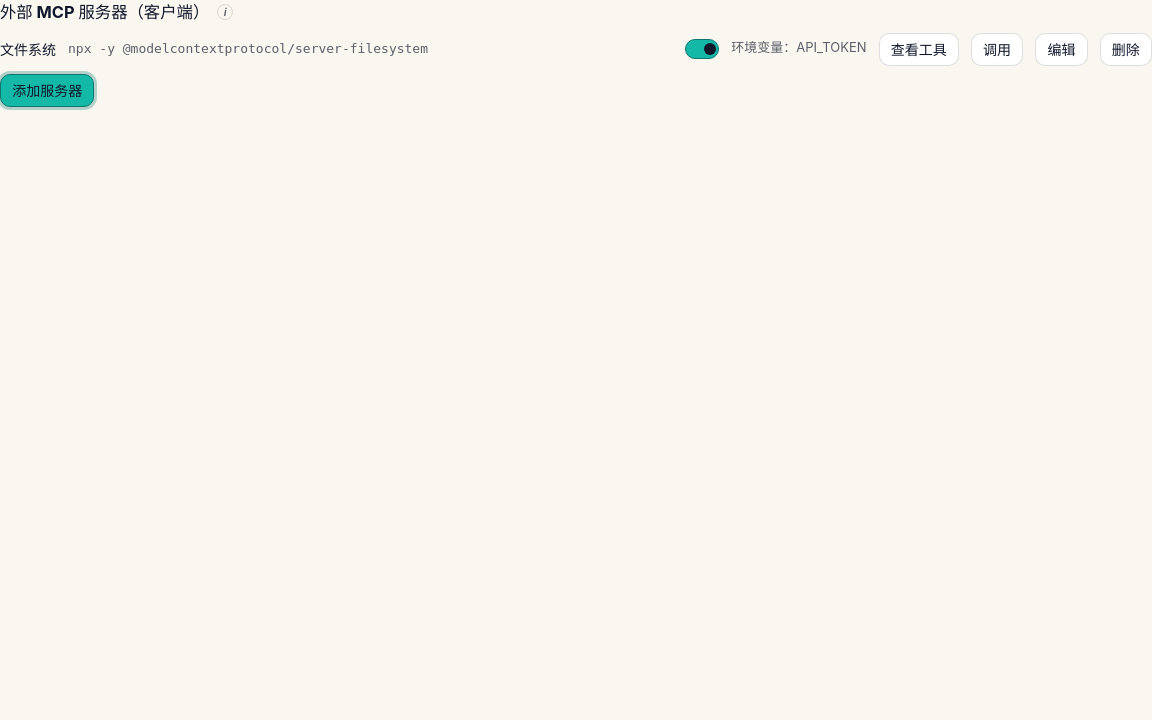
it: McpClientSettings › 查看工具 → mcp_server_tools → 工具名与描述可见
What coordinates should you click on to do the following:
click the button with test id "mcp-client-tools-srv-1"
I would click on:
 (919, 49)
Its box is [878,33,959,66].
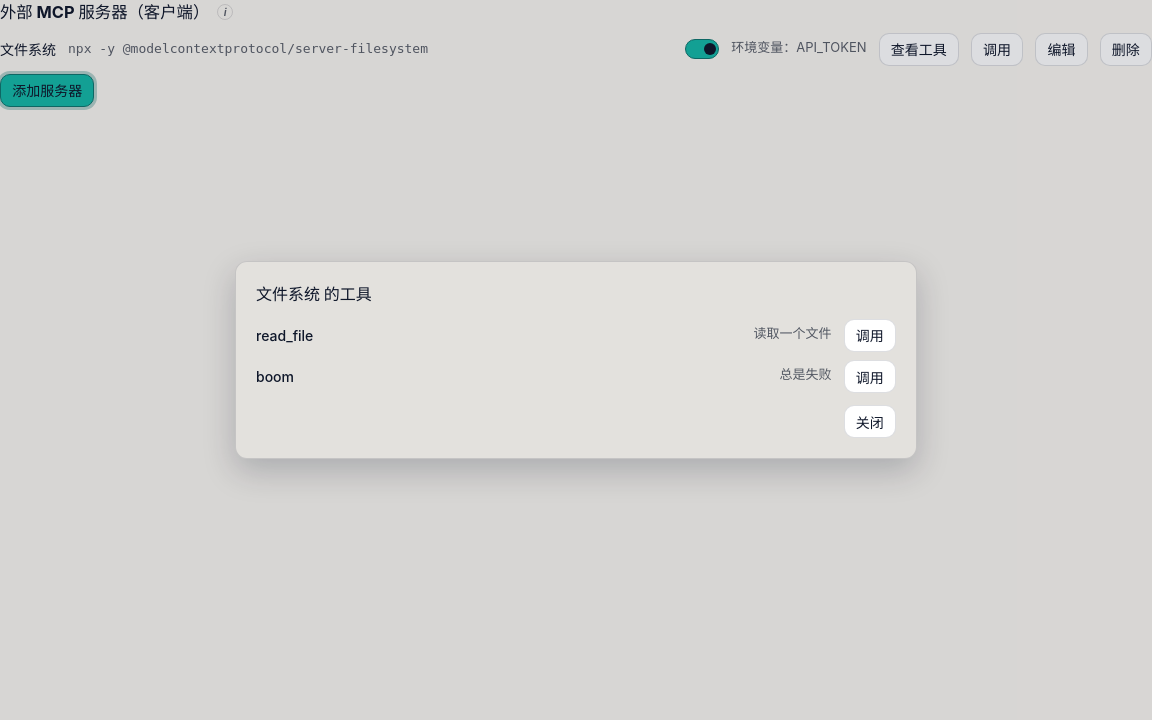
Expected: the element with test id "mcp-client-tool-read_file" shows "read_file", [256,327,313,344]
Expected: the element with test id "mcp-client-tool-read_file" shows "读取一个文件", [754,325,832,341]
